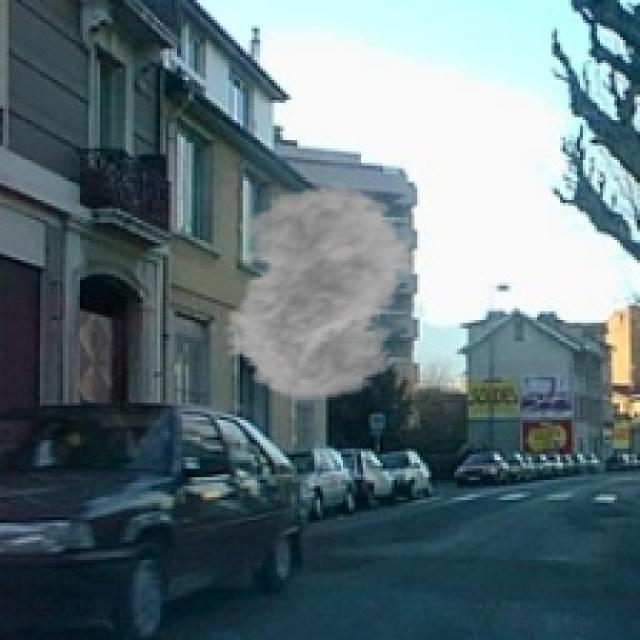smoke: (200, 183, 434, 403)
